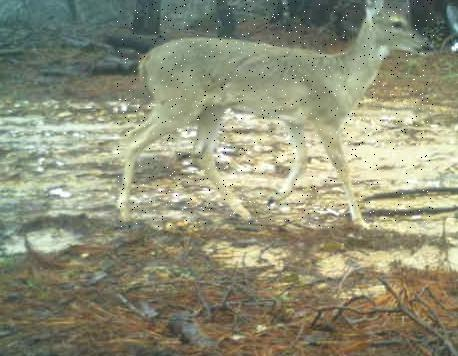Deer: (117, 0, 434, 228)
